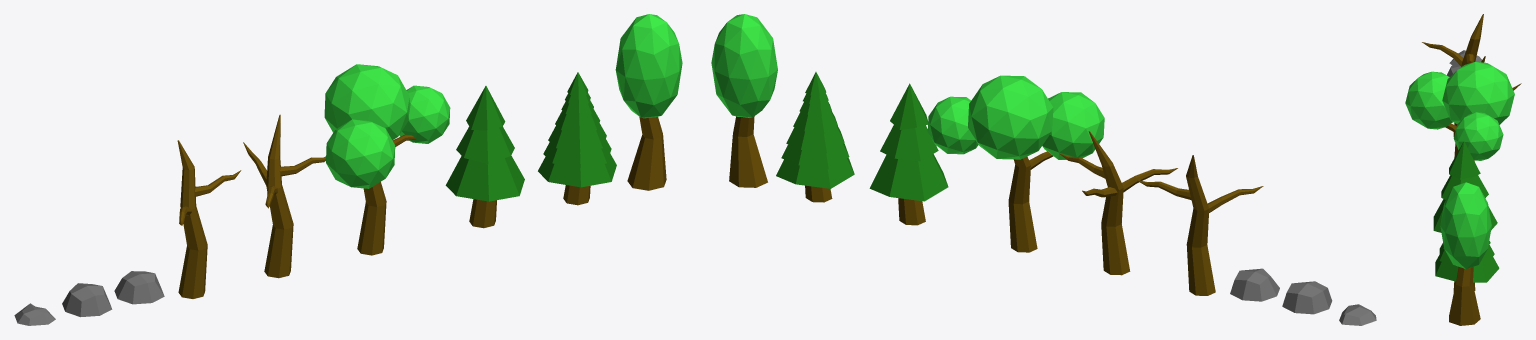
Rendered from LowPolyNature.glb.
3 views of the same model, side by side, from view 1: azimuth 30°, elevation 25°; view 2: azimuth 150°, elevation 25°; view 3: azimuth 270°, elevation 25° (orthographic). The views are drawn at different scales.
Parts seen in each view (by area): view 1: Icosphere.002, Icosphere.001, Cone.002, Cone.009, Cylinder.005, Cylinder.002, Cylinder.012, Cylinder.008, Cube, Cube.001, Cylinder.010, Cube.002 (+1 smaller); view 2: Icosphere.002, Icosphere.001, Cone.002, Cone.009, Cylinder.005, Cylinder.002, Cylinder.008, Cylinder.012, Cube, Cube.001, Cylinder.010, Cube.002; view 3: Icosphere.002, Icosphere.001, Cone.002, Cylinder.012, Cone.009, Cylinder.002, Cube.002.
Part boxes in pixels (box(x1,y1,x2,y2)): Icosphere.002: box(324, 64, 450, 188); Icosphere.001: box(615, 14, 682, 118); Cone.002: box(445, 86, 524, 201); Cone.009: box(538, 72, 616, 187); Cylinder.005: box(243, 114, 325, 278); Cylinder.002: box(177, 140, 241, 298); Cylinder.012: box(627, 117, 666, 190); Cylinder.008: box(357, 134, 415, 255); Cube: box(62, 283, 112, 317); Cube.001: box(114, 271, 164, 304); Cylinder.010: box(469, 199, 496, 228); Cube.002: box(14, 303, 55, 325); Icosphere.002: box(927, 75, 1104, 159); Icosphere.001: box(711, 14, 777, 117); Cone.002: box(869, 83, 948, 201); Cone.009: box(776, 72, 854, 188); Cylinder.005: box(1059, 131, 1177, 275); Cylinder.002: box(1137, 155, 1263, 295); Cylinder.008: box(1008, 151, 1053, 252); Cylinder.012: box(729, 116, 767, 187); Cube: box(1282, 281, 1332, 314); Cube.001: box(1230, 268, 1279, 301); Cylinder.010: box(898, 198, 925, 225); Cube.002: box(1339, 304, 1376, 325); Icosphere.002: box(1405, 62, 1514, 160); Icosphere.001: box(1440, 182, 1491, 268); Cone.002: box(1433, 141, 1497, 232); Cylinder.012: box(1449, 267, 1480, 325); Cone.009: box(1435, 241, 1499, 282); Cylinder.002: box(1422, 14, 1483, 136); Cube.002: box(1449, 50, 1481, 65).
Bounding box in the file's own units: 25.27 × 6.35 × 4.65.
